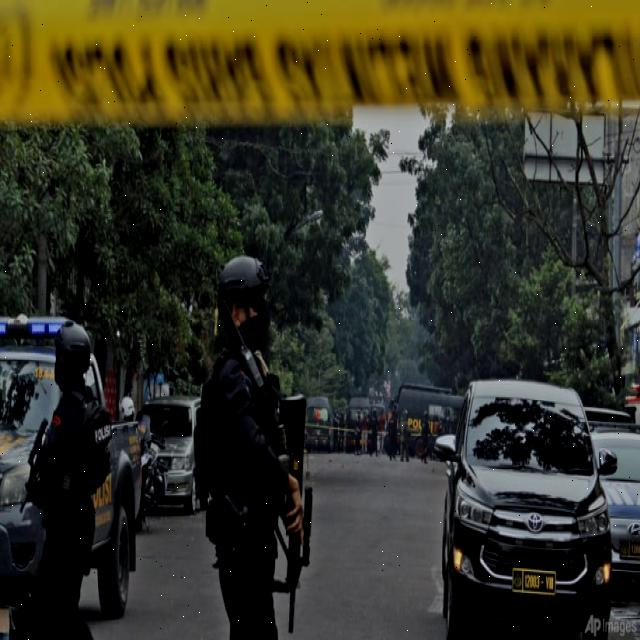police: (180, 229, 302, 640), (28, 303, 131, 640)
